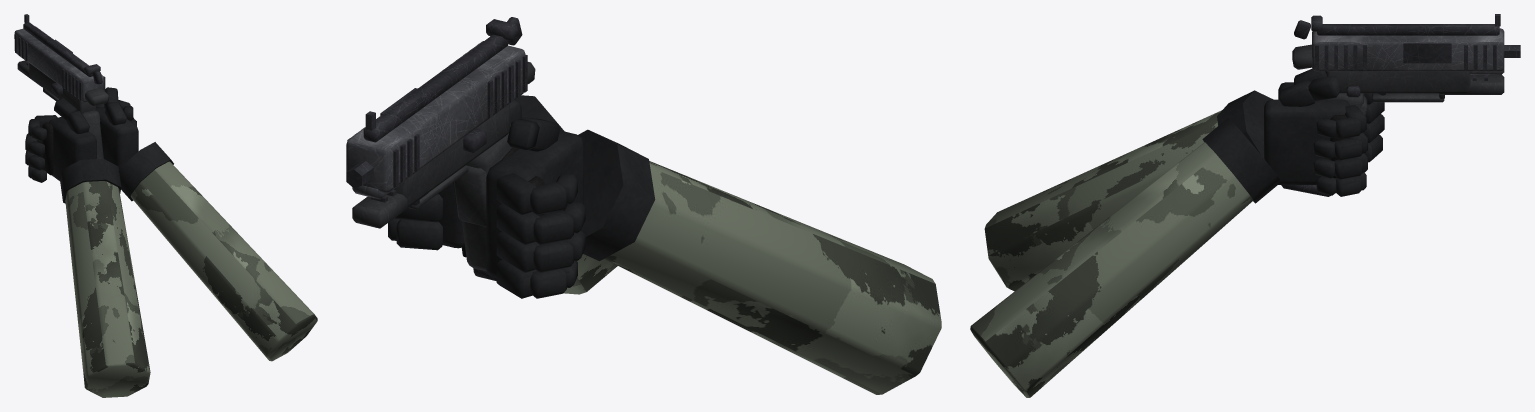
The model's file is pistol_fp.glb.
The picture shows the model from 3 angles, left to right: view 1: azimuth 30°, elevation 25°; view 2: azimuth 150°, elevation 25°; view 3: azimuth 270°, elevation 25°; orthographic projection. The views are drawn at different scales.
Parts seen in each view (by area): view 1: arms, slide, body; view 2: arms, slide, body; view 3: arms, slide, body.
Part boxes in pixels (left/top/right/bottom): arms: left=25, top=87, right=317, bottom=397; slide: left=14, top=14, right=105, bottom=102; body: left=17, top=60, right=108, bottom=158; arms: left=388, top=95, right=941, bottom=394; slide: left=346, top=19, right=527, bottom=199; body: left=352, top=17, right=535, bottom=281; arms: left=970, top=68, right=1384, bottom=397; slide: left=1311, top=14, right=1520, bottom=74; body: left=1281, top=20, right=1504, bottom=196.
Size of the model in its own units: 0.3714 by 0.3792 by 0.5726.
Materials: 7 (7 with a texture image).
